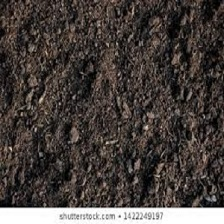loamy_soil: (11, 28, 202, 193)
